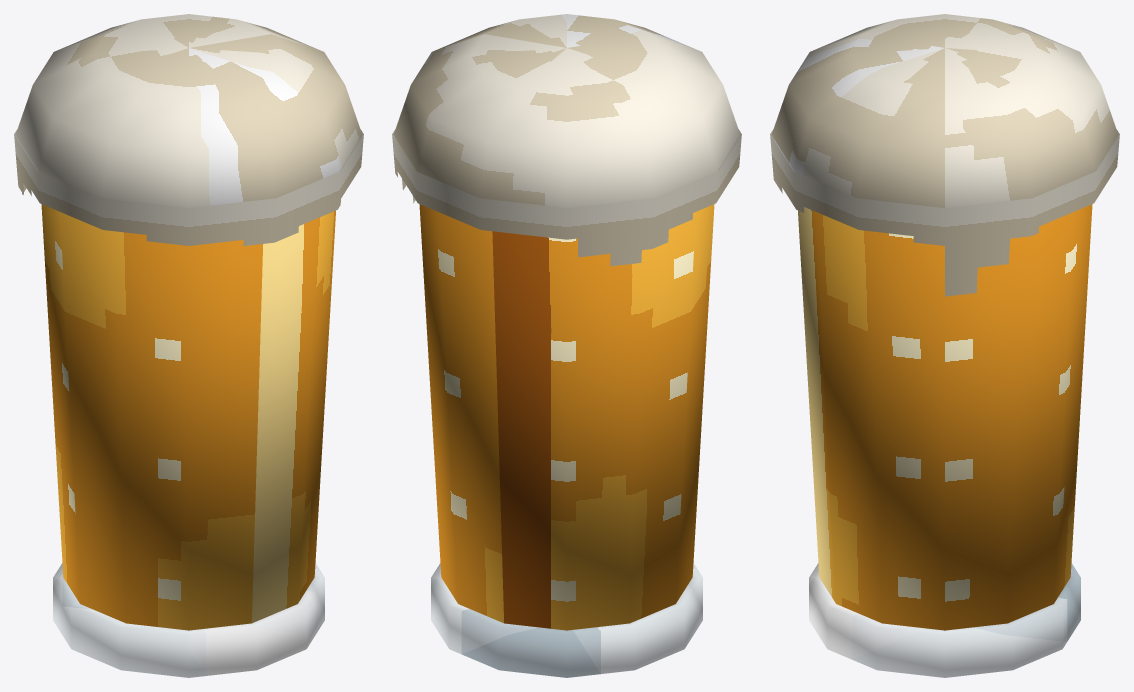
Rendered from drinks-beerGlass.glb.
The picture shows the model from 3 angles, left to right: view 1: azimuth 30°, elevation 25°; view 2: azimuth 150°, elevation 25°; view 3: azimuth 270°, elevation 25°; orthographic projection.
Parts seen in each view (by area): view 1: drinks.beerGlass; view 2: drinks.beerGlass; view 3: drinks.beerGlass.
Part boxes in pixels (x1,y1,x2,y2): drinks.beerGlass: (14,14,363,677); drinks.beerGlass: (392,14,741,677); drinks.beerGlass: (770,14,1119,677).
Size of the model in its own units: 1.02 by 1.84 by 1.02.
4 materials, 4 textured.
